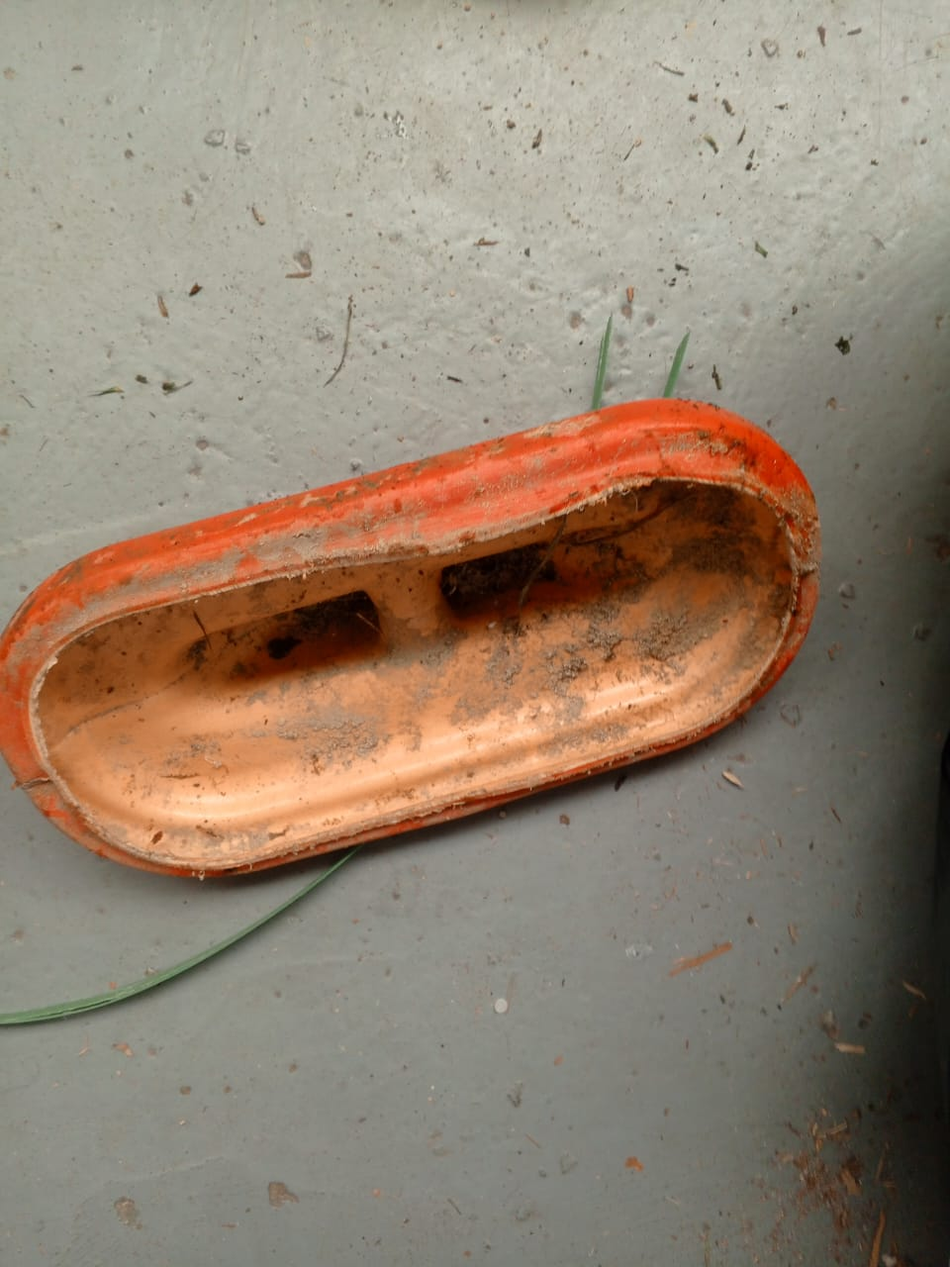Ordinario: (0, 401, 813, 882)
